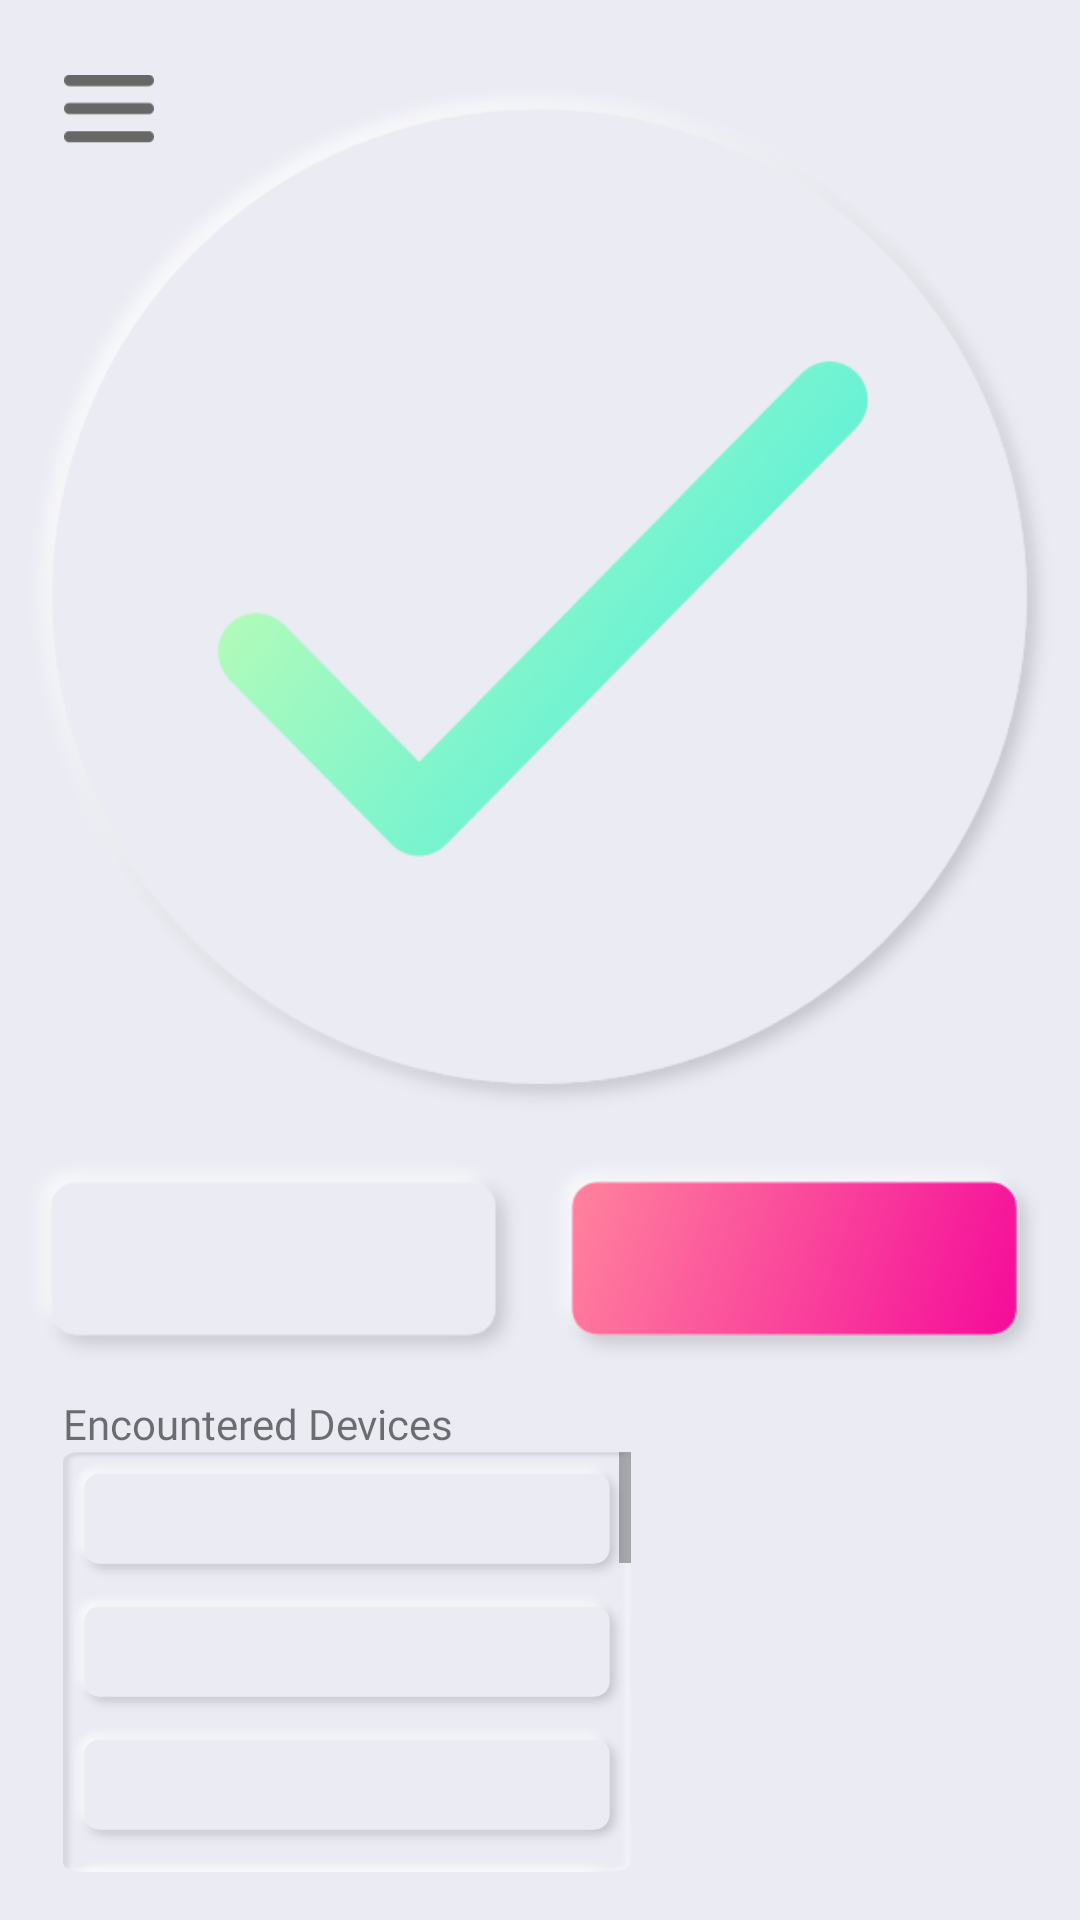

Locate icon controls on the screen. Image size 1080*1920, boxes as (x1, y1, x2, y2).
menulight: (64, 75, 154, 143)
